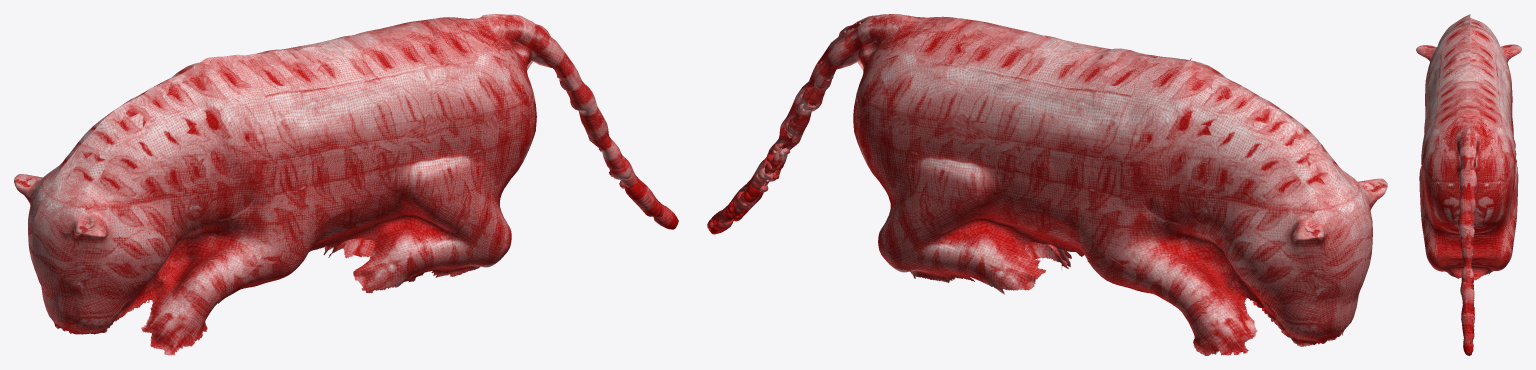
File: red_tiger.gltf
3 renders of one model, left to right at view 1: azimuth 30°, elevation 25°; view 2: azimuth 150°, elevation 25°; view 3: azimuth 270°, elevation 25°, orthographic. The views are drawn at different scales.
Parts seen in each view (by area): view 1: tiger_only; view 2: tiger_only; view 3: tiger_only.
Boxes of the visible parts, x1,y1,x2,y2 form: tiger_only: (14,14,678,355); tiger_only: (707,14,1387,355); tiger_only: (1416,14,1521,355).
Bounding box in the file's own units: 3.56 × 1.5 × 0.7796.
2 materials, 2 textured.
